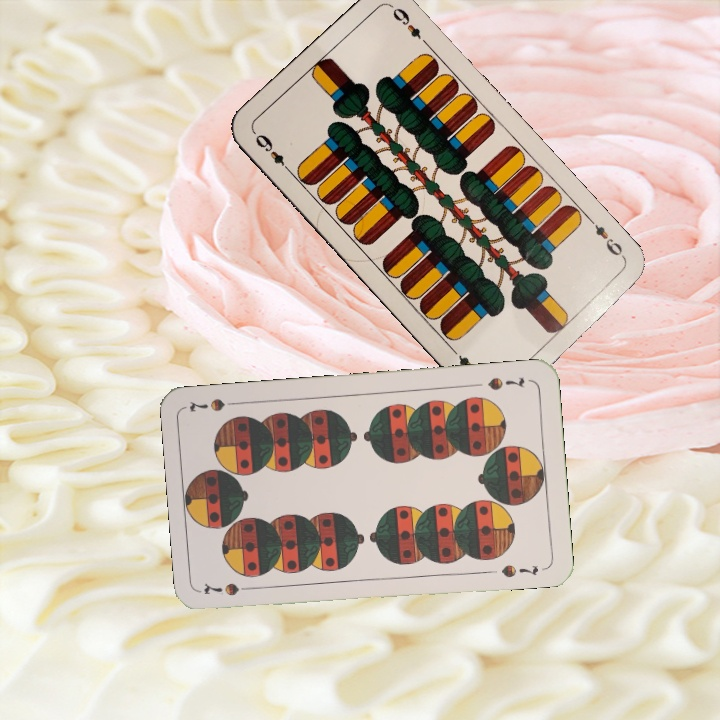E9: (250, 128, 294, 177), (585, 215, 629, 263)
S7: (200, 578, 258, 599), (484, 373, 527, 393)
